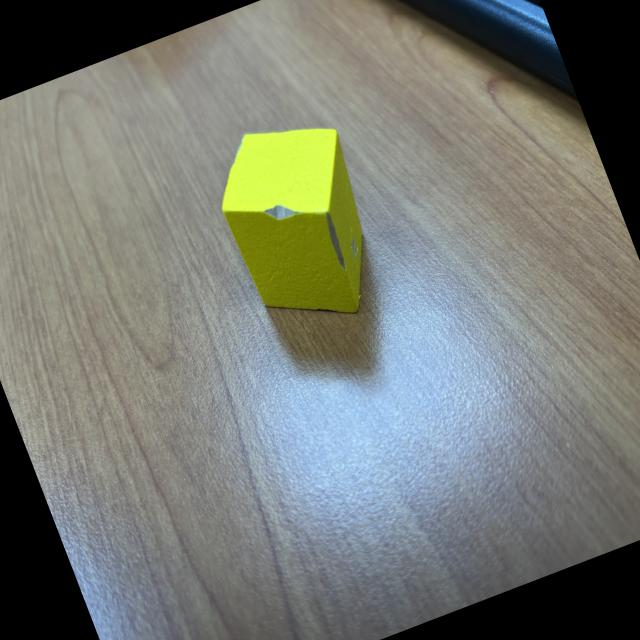broken: (200, 103, 402, 345)
